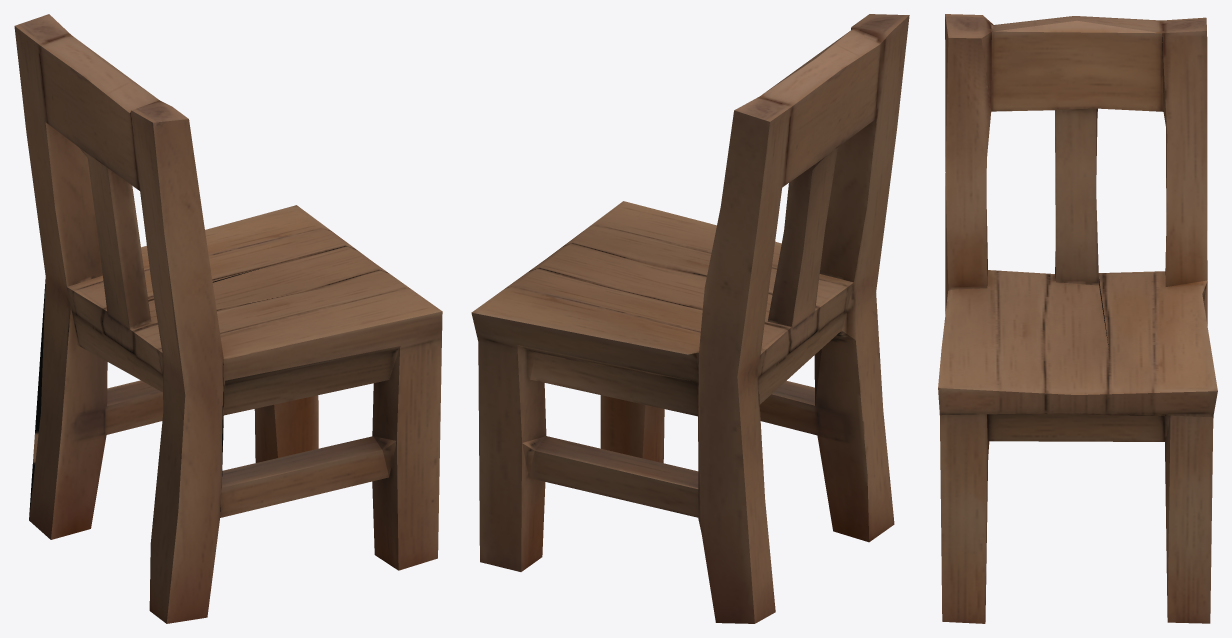
File: chair_lod0.glb
3 views of the same model, side by side, from view 1: azimuth 30°, elevation 25°; view 2: azimuth 150°, elevation 25°; view 3: azimuth 270°, elevation 25° (orthographic). The views are drawn at different scales.
Visible parts, largest first — view 1: low; view 2: low; view 3: low.
Part boxes in pixels (x1,y1,x2,y2): low: (14,14,442,623); low: (471,14,909,623); low: (938,14,1217,623).
Bounding box in the file's own units: 0.5997 × 1.01 × 0.5263.
Materials: 1 (1 with a texture image).
